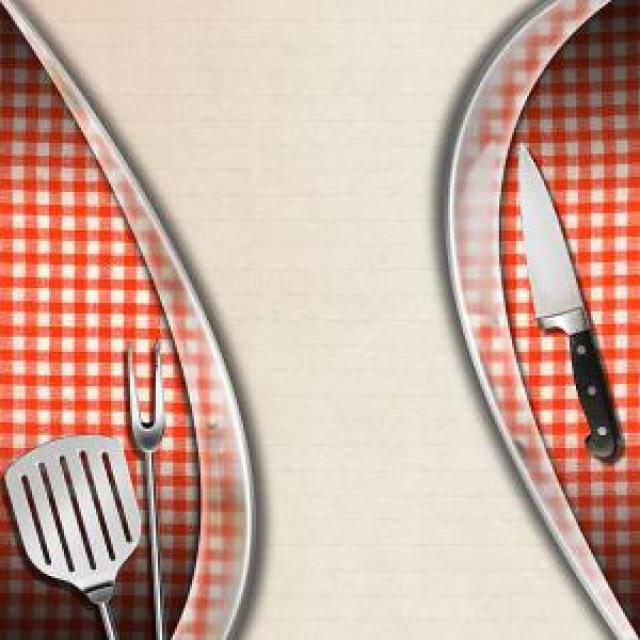knife: (514, 141, 627, 466)
